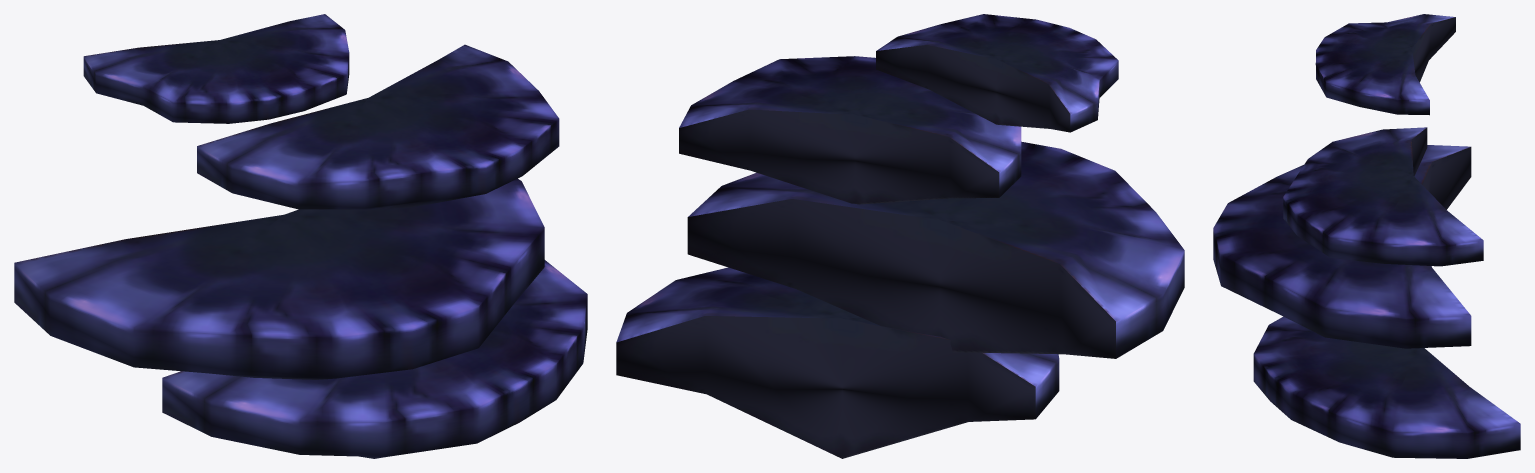
File: Mushroom20.fbx
3 views of the same model, side by side, from view 1: azimuth 30°, elevation 25°; view 2: azimuth 150°, elevation 25°; view 3: azimuth 270°, elevation 25° (orthographic). The views are drawn at different scales.
Visible parts, largest first — view 1: Mushroom20; view 2: Mushroom20; view 3: Mushroom20.
Boxes of the visible parts, box(x1,y1,x2,y2) form: Mushroom20: box(14, 14, 587, 458); Mushroom20: box(616, 14, 1184, 458); Mushroom20: box(1213, 14, 1520, 458).
Bounding box in the file's own units: 2.02 × 1.67 × 1.33.
